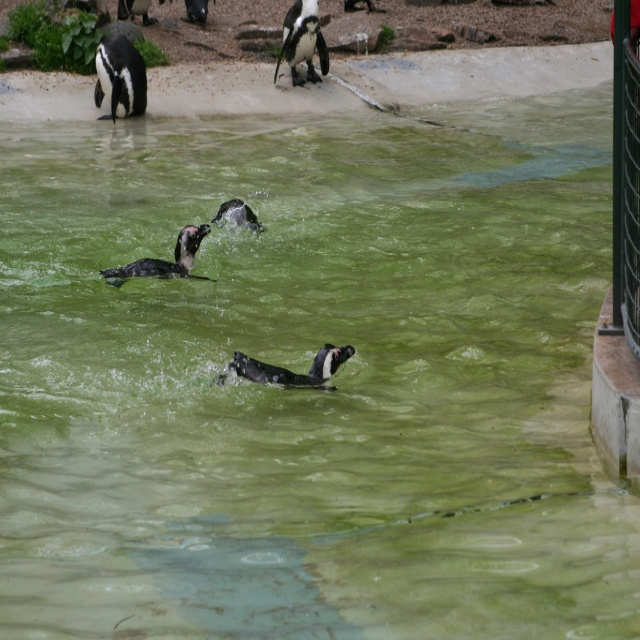Penguin: (97, 220, 216, 285), (216, 343, 353, 393), (272, 0, 331, 91), (91, 32, 152, 119), (220, 198, 261, 234)
